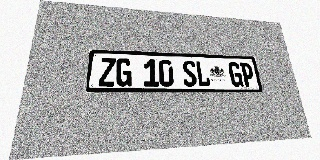0: (158, 59, 174, 86)
1: (143, 59, 159, 86)
G: (115, 58, 132, 86), (228, 62, 244, 87)
L: (195, 61, 211, 86)
P: (240, 62, 256, 87)
S: (182, 60, 197, 86)
Z: (98, 57, 116, 86)
